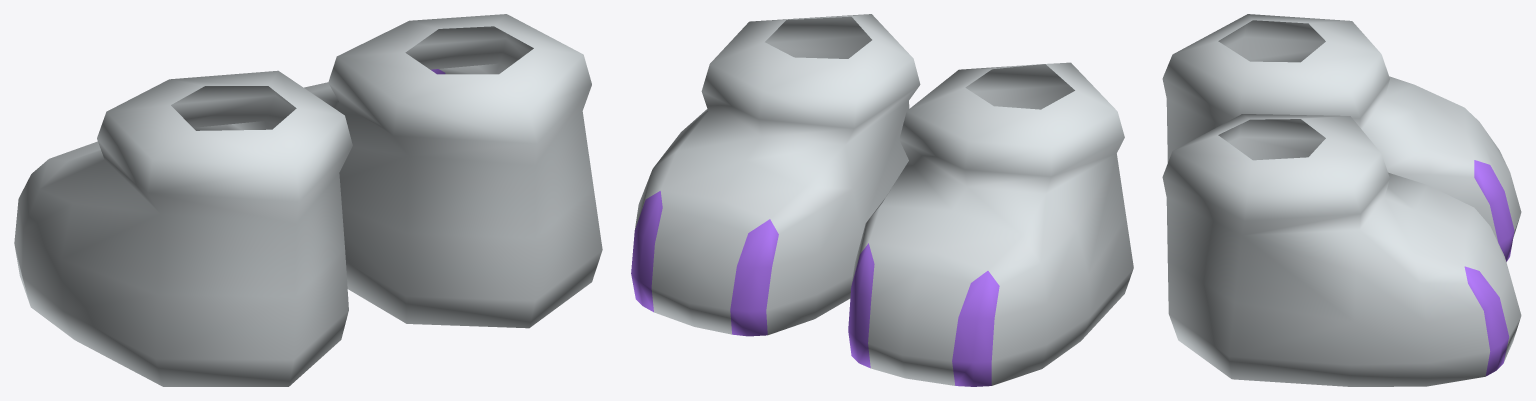
Rendered from Shoes_9.fbx.
The picture shows the model from 3 angles, left to right: view 1: azimuth 30°, elevation 25°; view 2: azimuth 150°, elevation 25°; view 3: azimuth 270°, elevation 25°; orthographic projection. The views are drawn at different scales.
Parts seen in each view (by area): view 1: Shoes_9; view 2: Shoes_9; view 3: Shoes_9.
Boxes of the visible parts, x1,y1,x2,y2 form: Shoes_9: (14,14,602,386); Shoes_9: (631,14,1133,386); Shoes_9: (1162,14,1521,386).
Size of the model in its own units: 43.91 by 20.49 by 32.94.
